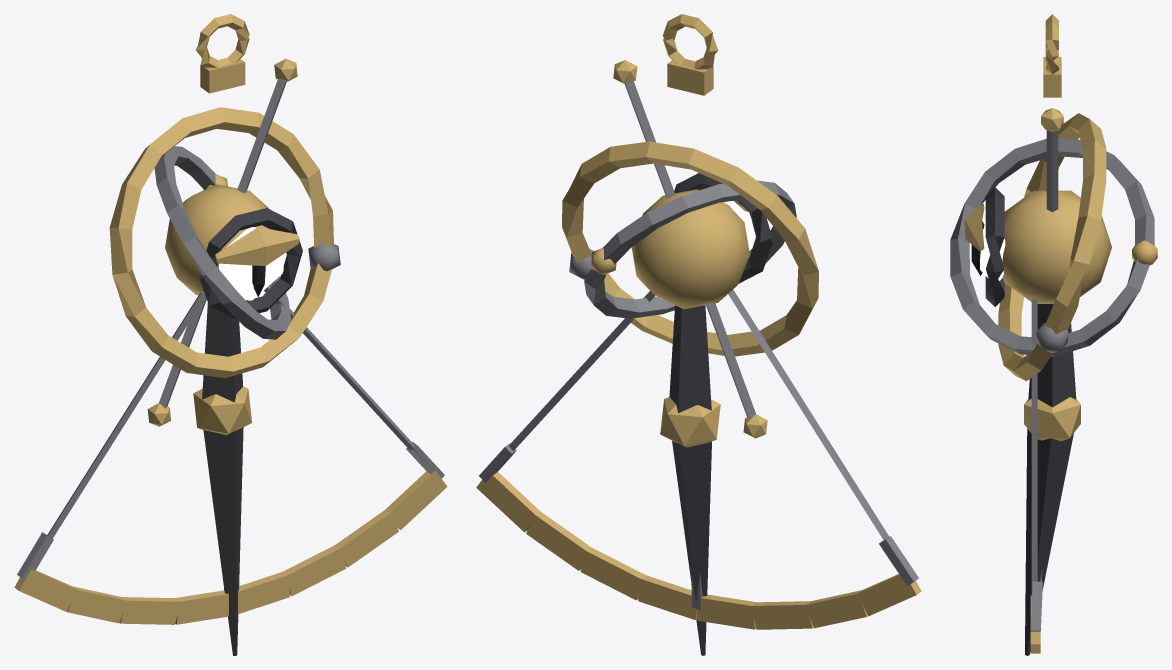
Rendered from astrolabe-tell-reader.glb.
3 renders of one model, left to right at view 1: azimuth 30°, elevation 25°; view 2: azimuth 150°, elevation 25°; view 3: azimuth 270°, elevation 25°, orthographic. The views are drawn at different scales.
Parts seen in each view (by area): view 1: astrolabe_tell_reader; view 2: astrolabe_tell_reader; view 3: astrolabe_tell_reader.
Part boxes in pixels (x1,y1,x2,y2): astrolabe_tell_reader: (14,14,447,655); astrolabe_tell_reader: (476,14,921,655); astrolabe_tell_reader: (950,14,1157,655).
Size of the model in its own units: 0.5718 by 0.8043 by 0.2372.
